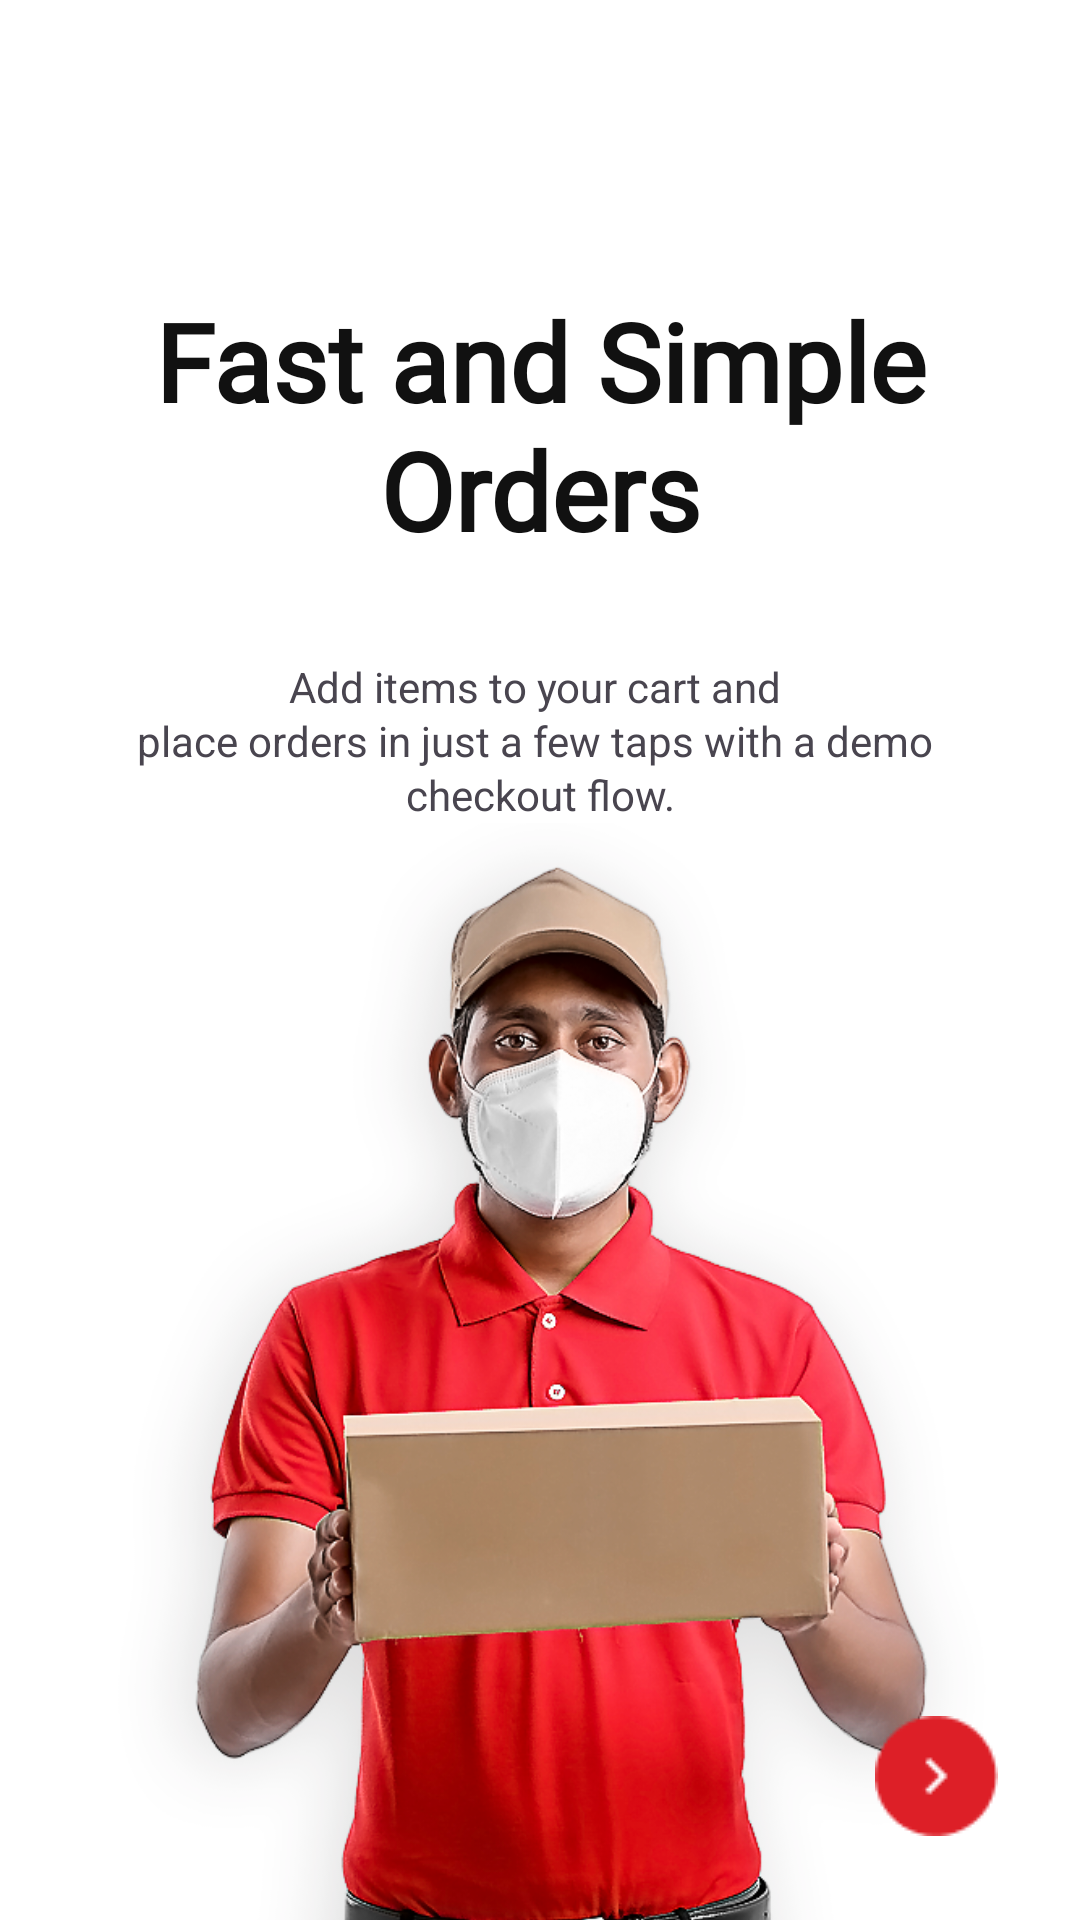

Icon bounding boxes for this 1080w x 1920h phone screenshot, format [x1=x1, y1=y1, x2=x2, y2=y2]:
Next: [x1=864, y1=1704, x2=998, y2=1836]
